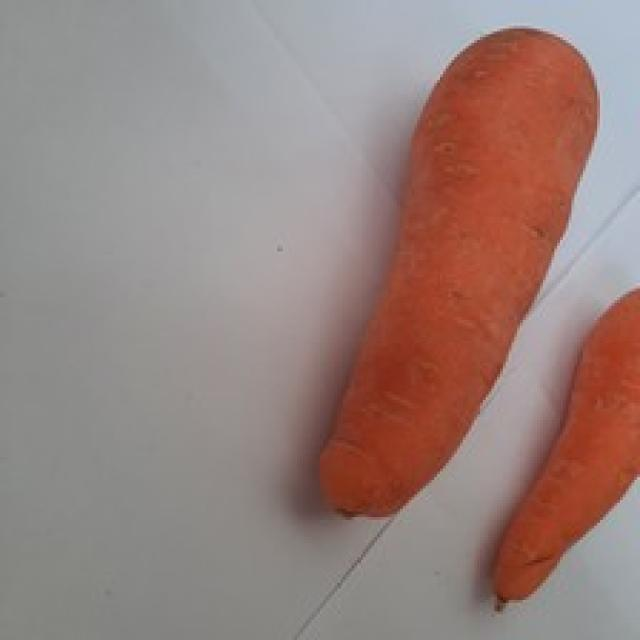Fresh_Carrot: (320, 30, 598, 516), (501, 285, 640, 625)
